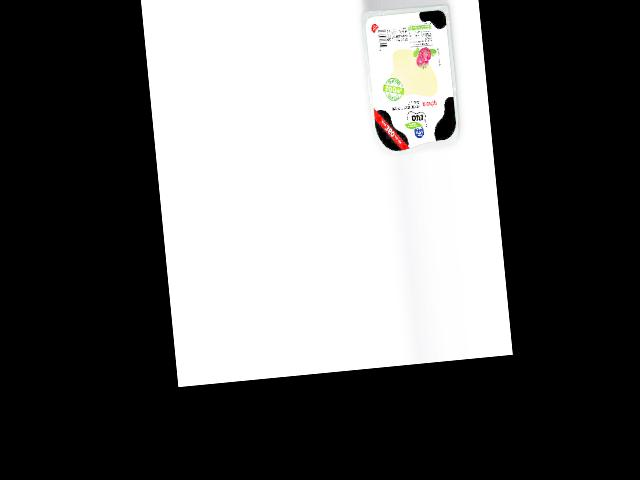cheese: (360, 3, 462, 158)
